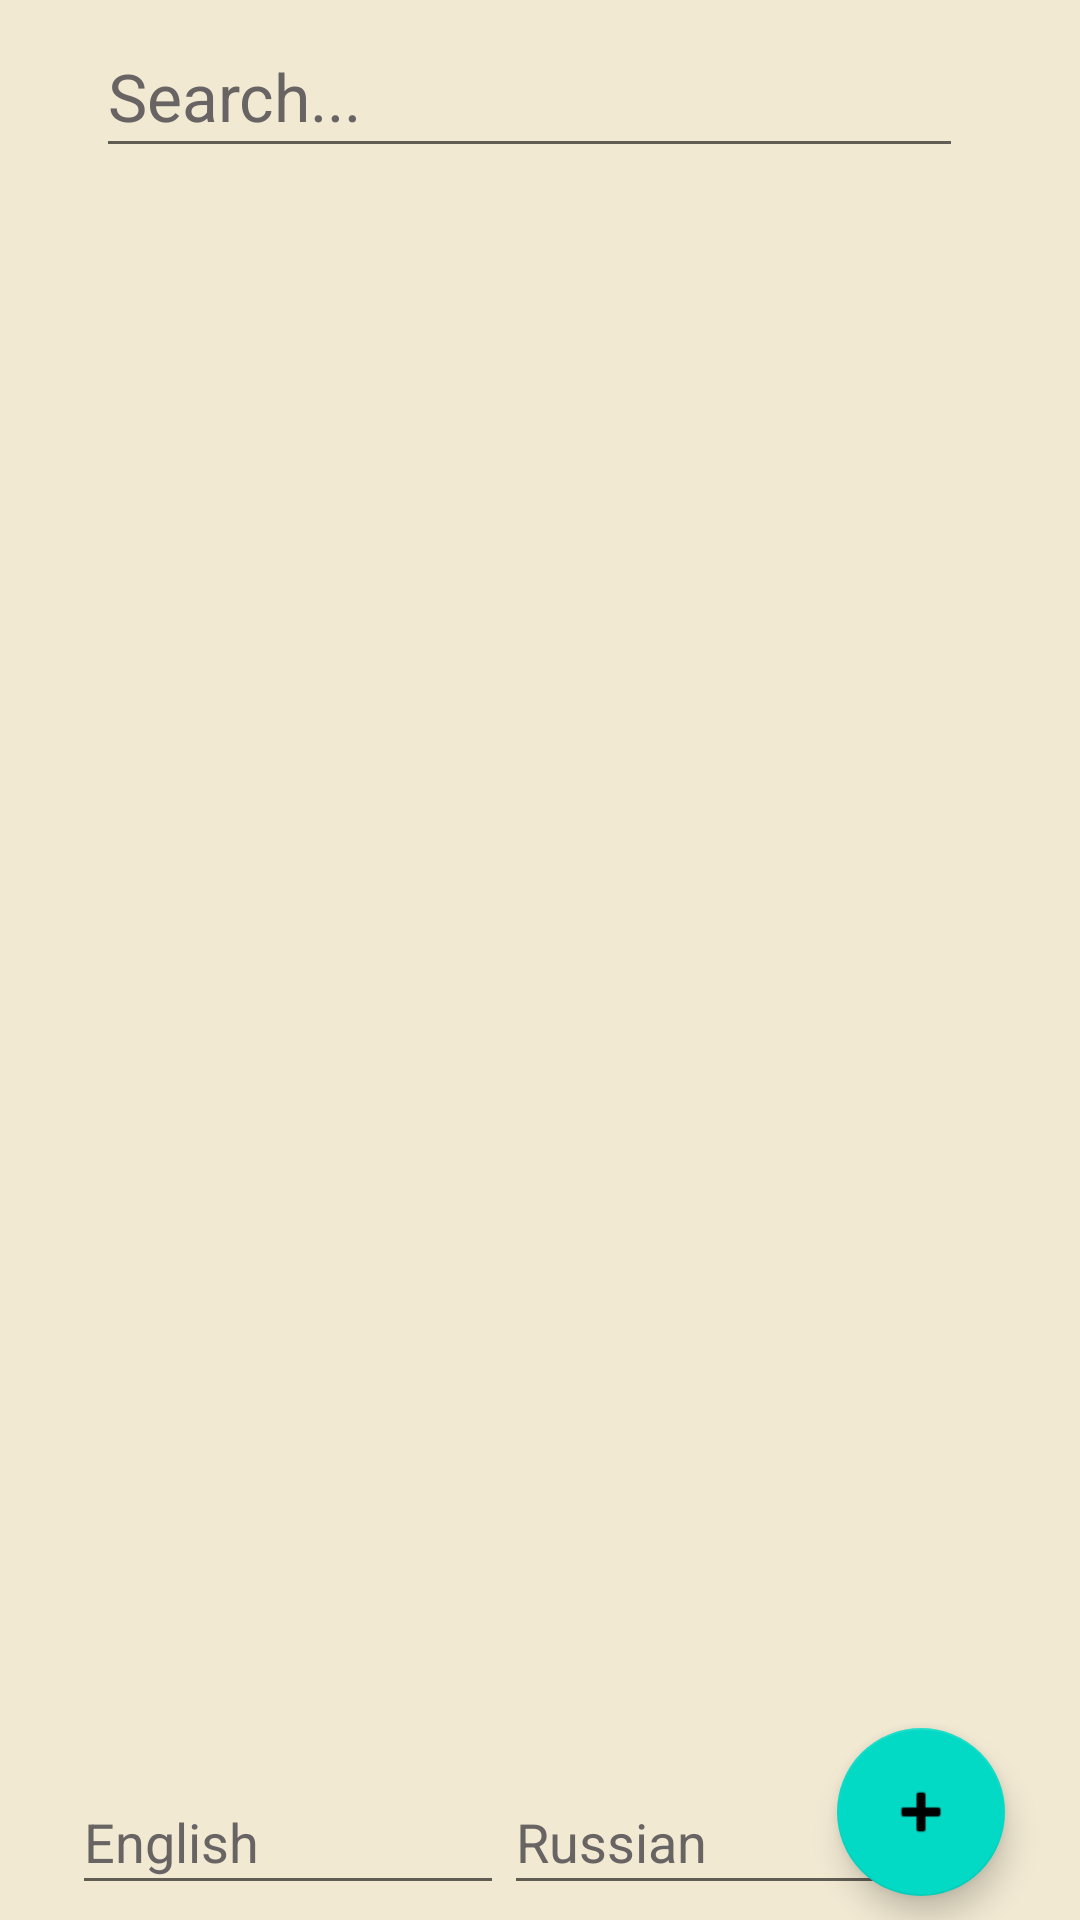

Icon click points for this 1080 × 1920 phone screenshot, format point (x, y):
add: point (921, 1812)
